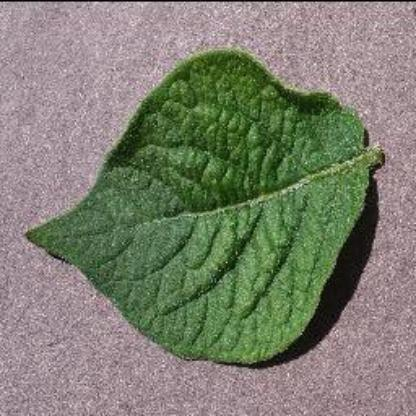Healthy-plant: (27, 51, 393, 379)
